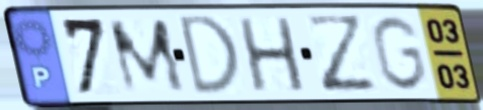7: (60, 16, 110, 98)
D: (177, 13, 244, 99)
G: (368, 13, 430, 94)
H: (235, 14, 310, 95)
M: (104, 16, 190, 97)
Z: (301, 12, 382, 96)
